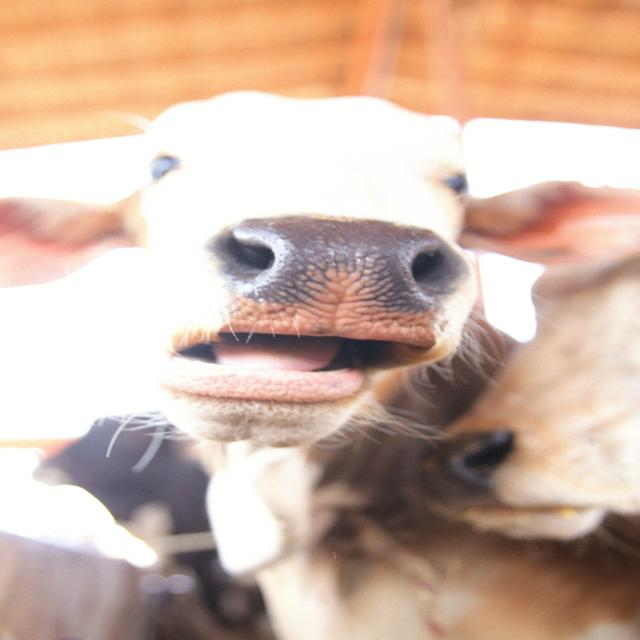muzzles: (196, 212, 471, 375)
